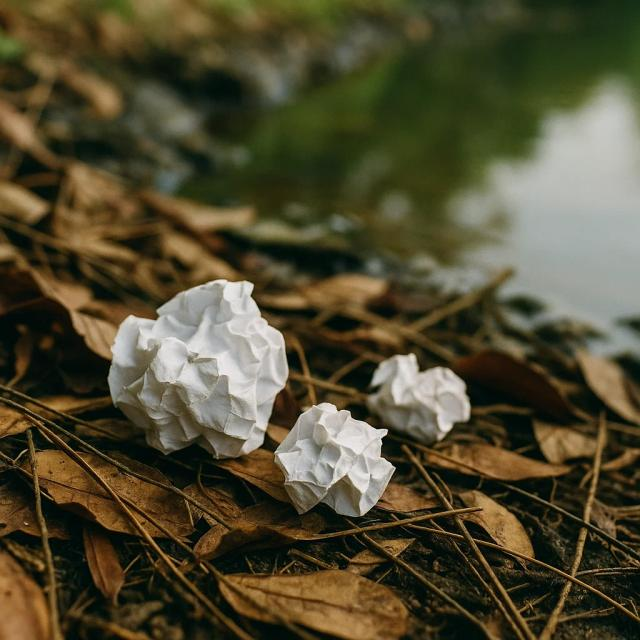paper: (108, 278, 289, 459), (278, 402, 393, 517), (370, 350, 473, 440)
